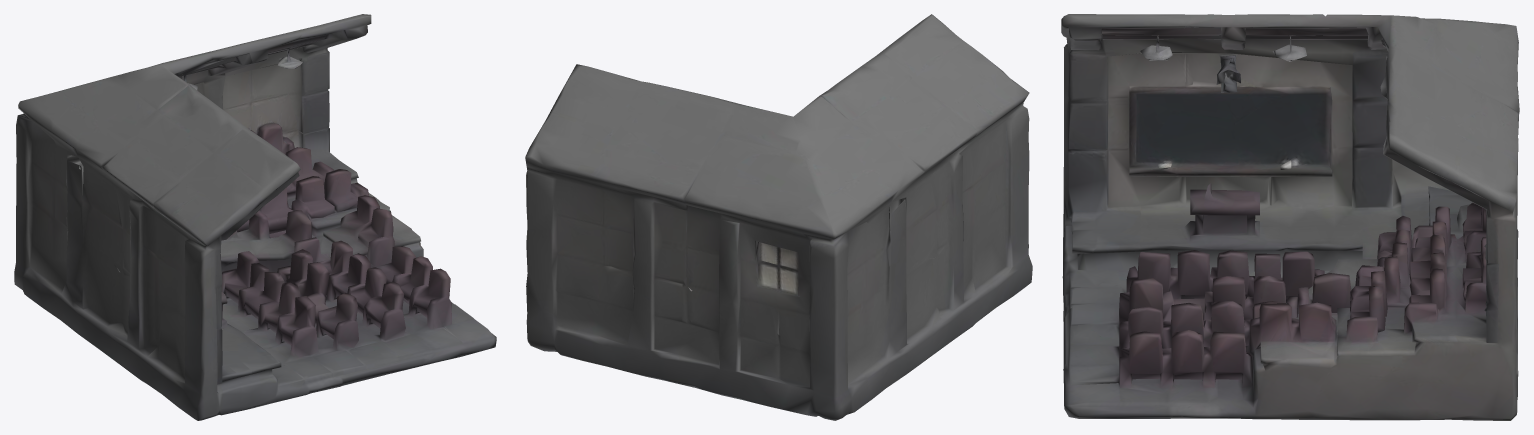
File: university_interior.glb
3 renders of one model, left to right at view 1: azimuth 30°, elevation 25°; view 2: azimuth 150°, elevation 25°; view 3: azimuth 270°, elevation 25°, orthographic. The views are drawn at different scales.
Visible parts, largest first — view 1: tripo_node_2a8ce32f-e777-4fb9-a0d9-f07178c2cc29; view 2: tripo_node_2a8ce32f-e777-4fb9-a0d9-f07178c2cc29; view 3: tripo_node_2a8ce32f-e777-4fb9-a0d9-f07178c2cc29.
Part boxes in pixels (bbox=[...]): tripo_node_2a8ce32f-e777-4fb9-a0d9-f07178c2cc29: bbox=[14, 14, 496, 420]; tripo_node_2a8ce32f-e777-4fb9-a0d9-f07178c2cc29: bbox=[525, 14, 1032, 420]; tripo_node_2a8ce32f-e777-4fb9-a0d9-f07178c2cc29: bbox=[1061, 14, 1519, 420].
Size of the model in its own units: 0.939 by 0.6915 by 1.
Materials: 1 (1 with a texture image).
